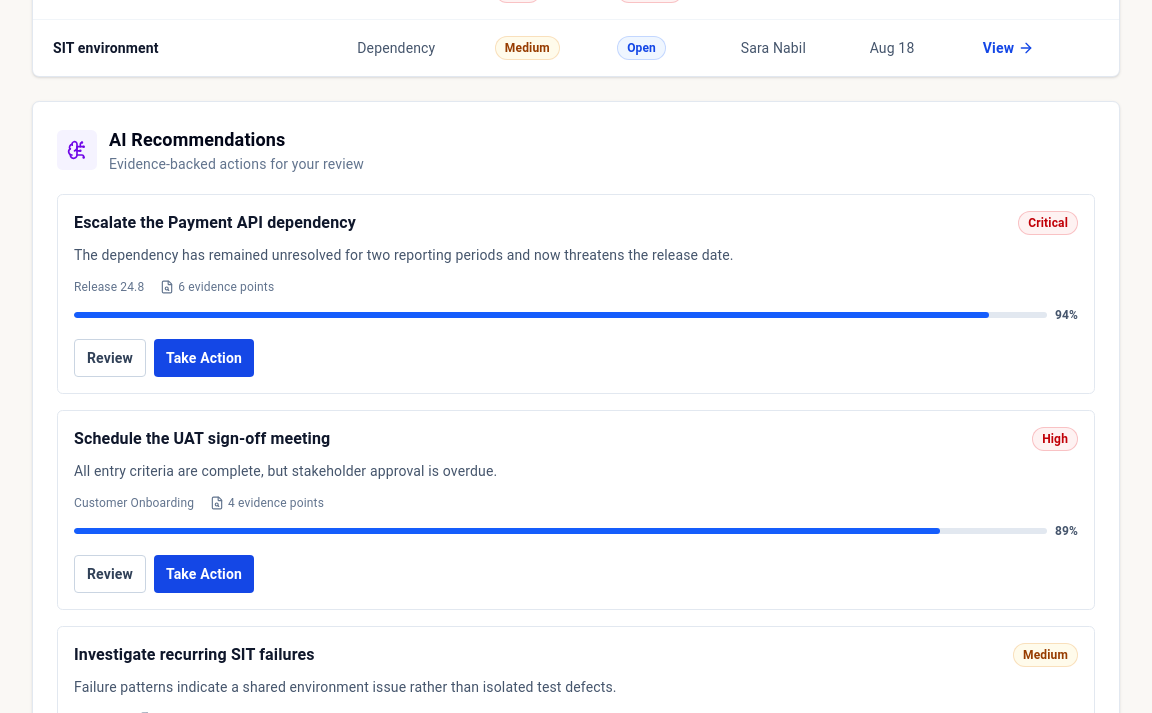
Test case: Command Center › reviews a recommendation without executing it
(page scrolled)
Check: the heading "AI Recommendations" is shown, box [109, 129, 286, 150]
Step 1. Click the button "Take Action" below "Release 24.8" → coordinates (204, 358), box [154, 339, 254, 377]
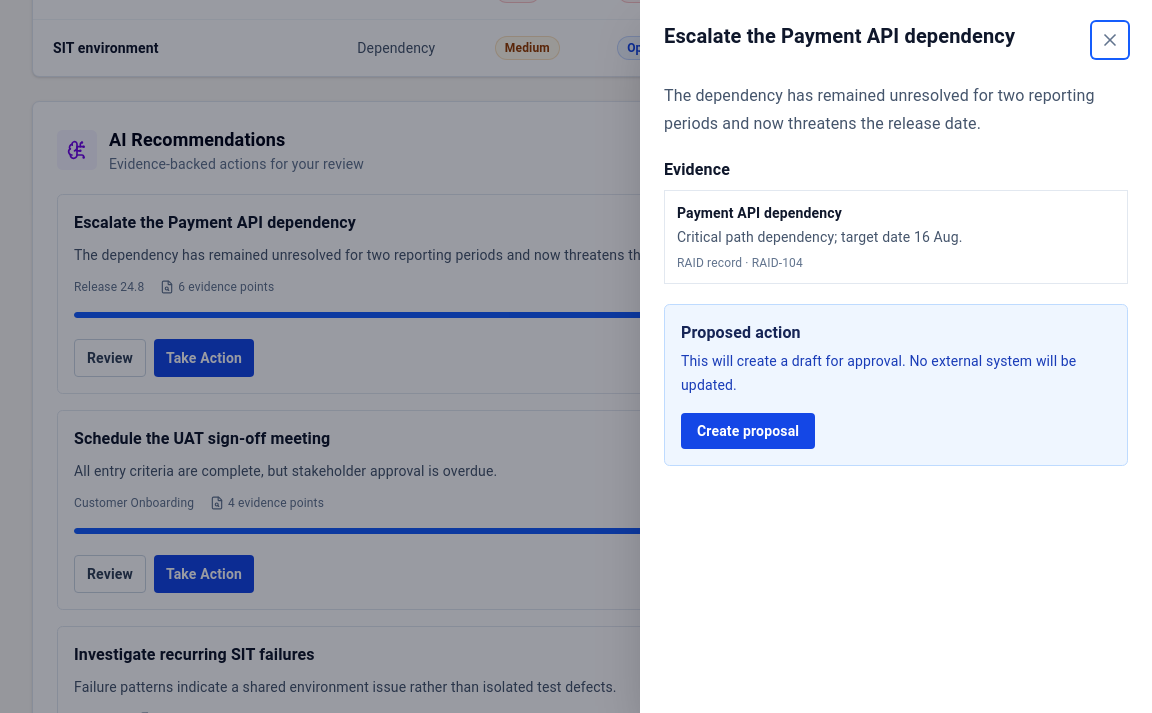
Check: the text "No external system will be updated" is shown, box [681, 353, 1076, 393]
Step 2. Click the button "Create proposal" → coordinates (748, 431), box [681, 413, 815, 449]
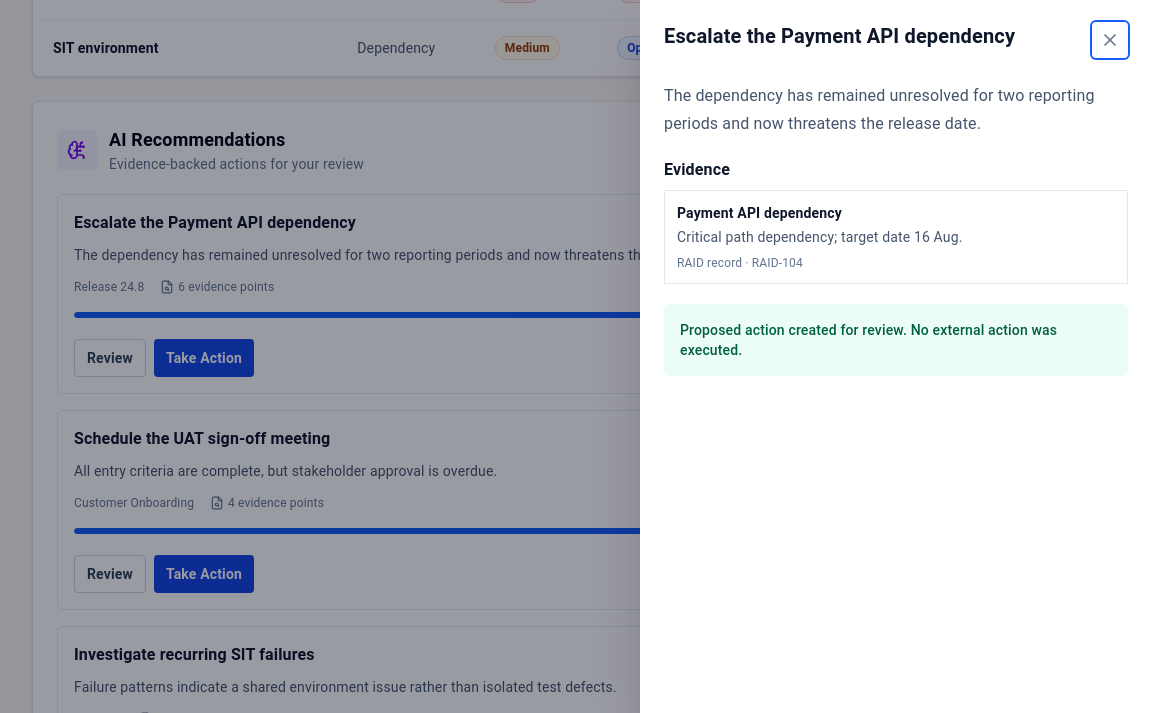
Check: the message shows "No external action was executed", box [680, 322, 1057, 358]
